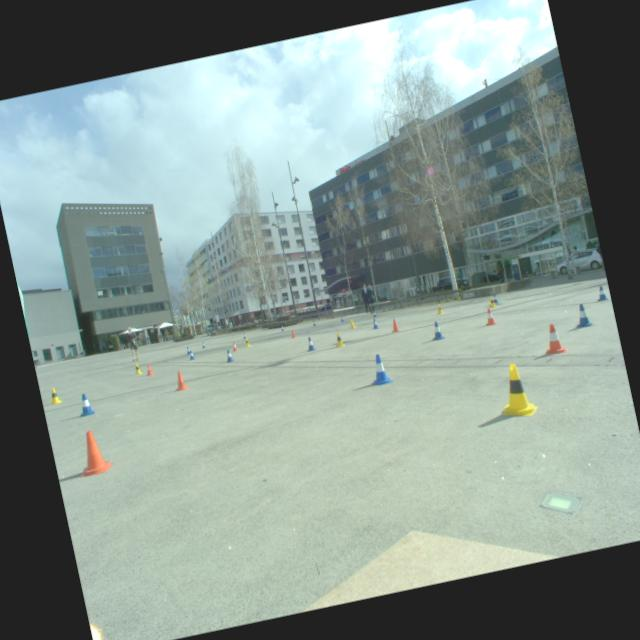blue_cone: (365, 352, 394, 386), (570, 301, 595, 329), (76, 391, 95, 417), (428, 320, 446, 341), (594, 284, 608, 302), (304, 335, 317, 351), (224, 348, 234, 362), (370, 317, 380, 329), (188, 349, 196, 360), (492, 292, 498, 302), (200, 341, 207, 348), (186, 346, 192, 354), (372, 310, 377, 317), (312, 319, 316, 326), (340, 315, 344, 322), (242, 332, 246, 338), (280, 324, 284, 330)
orange_cone: (70, 426, 115, 478), (540, 321, 568, 356), (172, 368, 190, 391), (482, 306, 498, 326), (388, 318, 401, 332), (144, 362, 154, 375), (230, 341, 238, 352), (290, 329, 296, 338)
yellow_cone: (491, 359, 539, 422), (48, 386, 64, 404), (333, 330, 346, 348), (132, 362, 142, 374), (487, 296, 497, 308), (435, 304, 444, 314), (348, 318, 356, 329), (244, 336, 252, 346)
